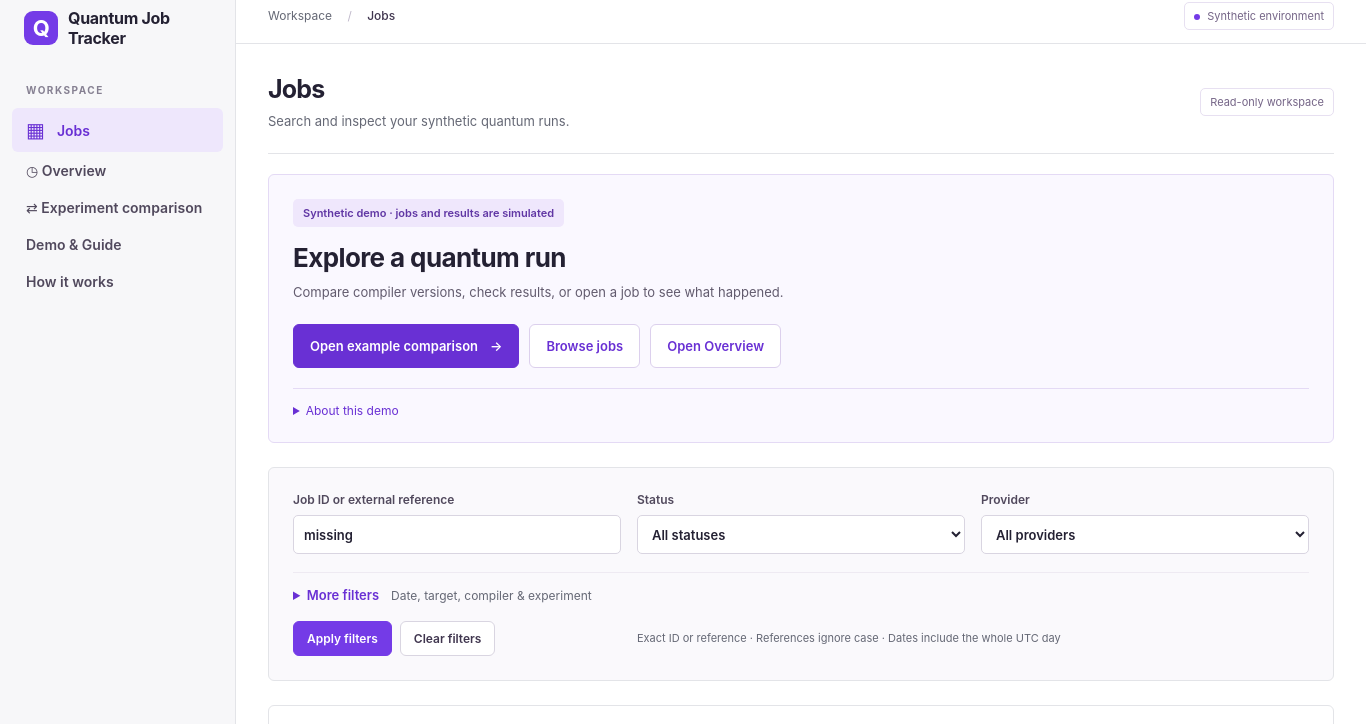
jobs page › shows an empty state and allows clearing filters
The image size is (1366, 724).
Click the button "Clear filters".
click(448, 639)  # box [400, 621, 495, 656]
(page scrolled)
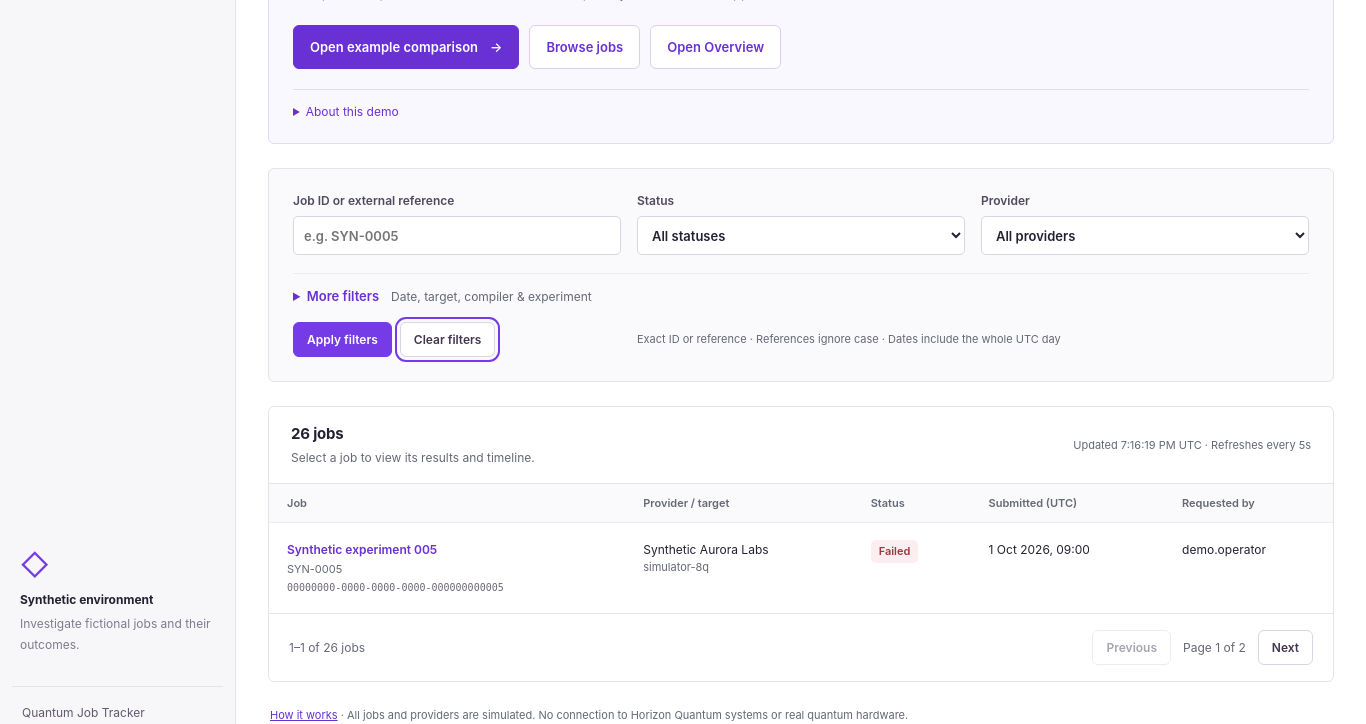
Result: the text "SYN-0005" is shown at [287, 562, 342, 576]
